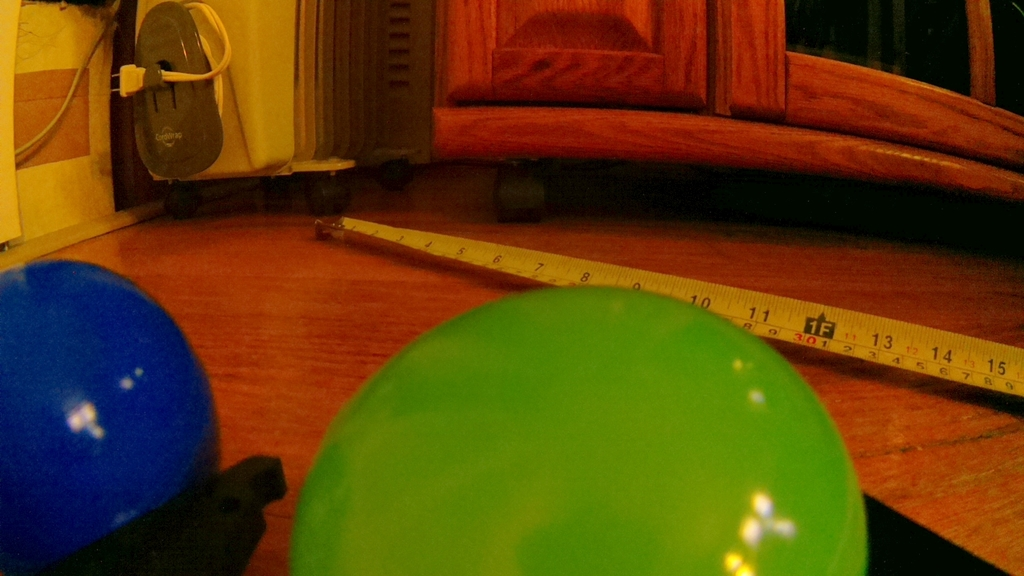ball: (277, 280, 871, 576)
